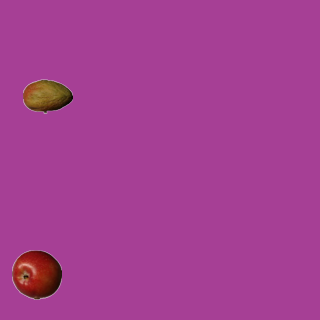Apple Braeburn: (11, 249, 61, 299)
Papaya: (22, 71, 72, 121)
